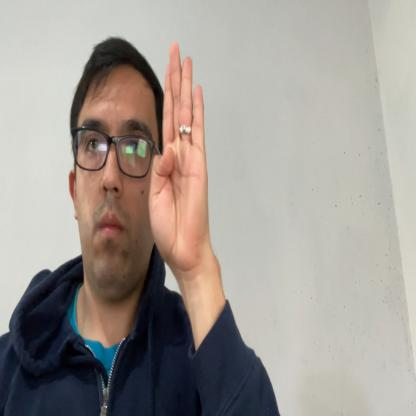B: (149, 41, 209, 272)
